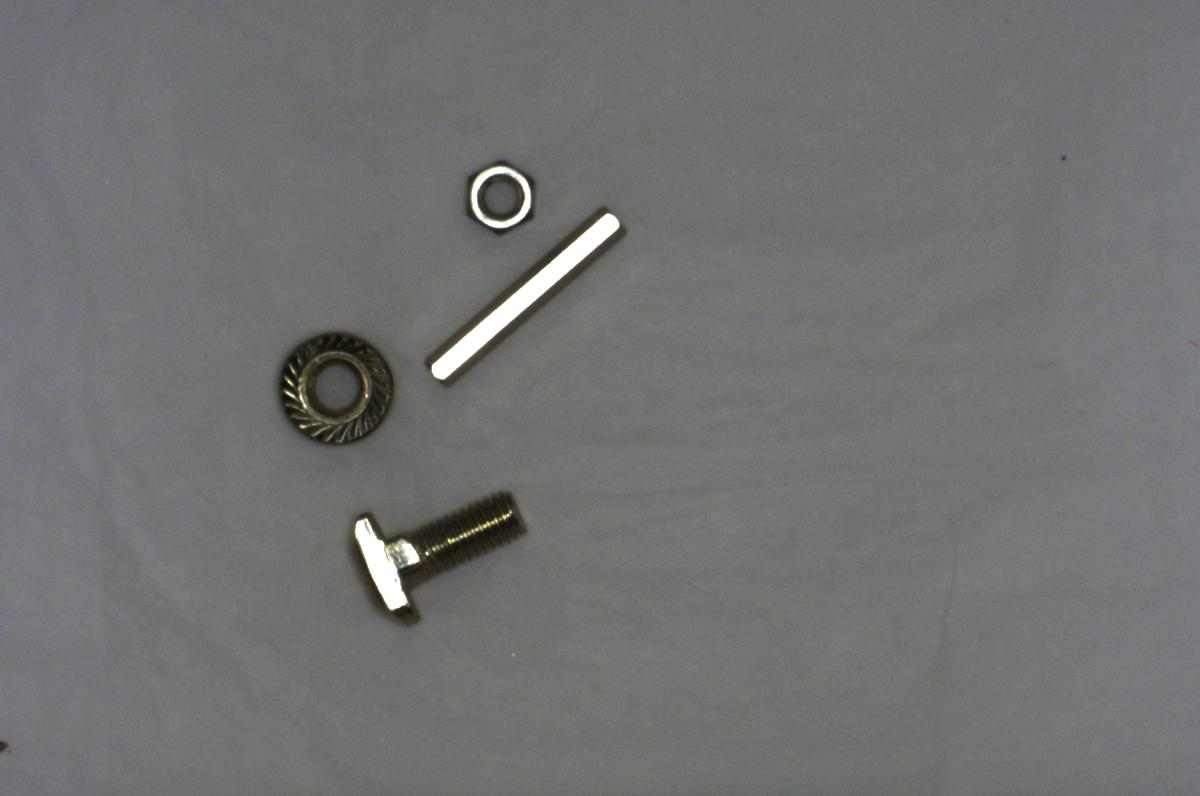Double hexagonal column: (422, 203, 631, 385)
Flange nut: (275, 322, 405, 458)
Hexagon nut: (459, 150, 544, 235)
T-shaped screw: (344, 488, 530, 633)
